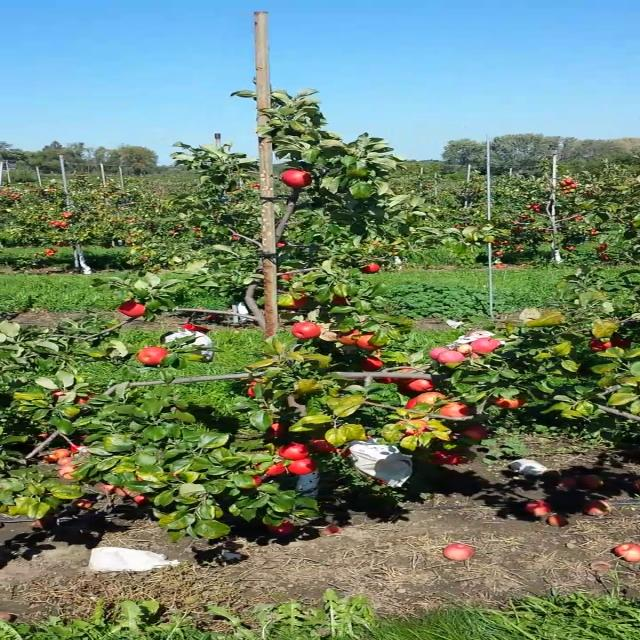apple: (396, 378, 438, 396), (134, 346, 171, 366), (54, 389, 95, 407), (395, 418, 432, 437), (279, 170, 312, 190), (116, 297, 148, 317), (278, 441, 310, 461), (290, 321, 322, 339), (438, 402, 471, 418), (254, 460, 287, 476), (471, 338, 502, 354), (336, 328, 360, 348), (286, 458, 316, 474), (493, 396, 527, 410), (310, 434, 336, 452), (439, 450, 471, 464), (356, 331, 378, 350), (416, 392, 450, 404), (60, 463, 84, 480), (461, 424, 488, 439), (436, 351, 468, 363), (264, 422, 286, 438), (360, 356, 383, 370), (285, 295, 307, 309), (358, 262, 383, 274), (247, 380, 263, 398), (587, 338, 609, 350), (429, 347, 451, 359), (425, 451, 443, 465), (608, 338, 633, 348), (249, 473, 264, 488), (334, 446, 351, 458), (403, 396, 417, 410), (456, 343, 473, 353), (372, 377, 400, 383), (276, 273, 296, 281), (331, 294, 346, 304), (276, 240, 288, 248)
